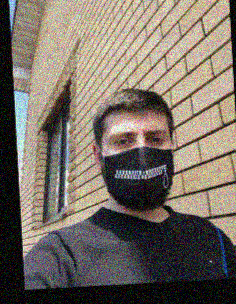with_mask: (100, 120, 177, 211)
